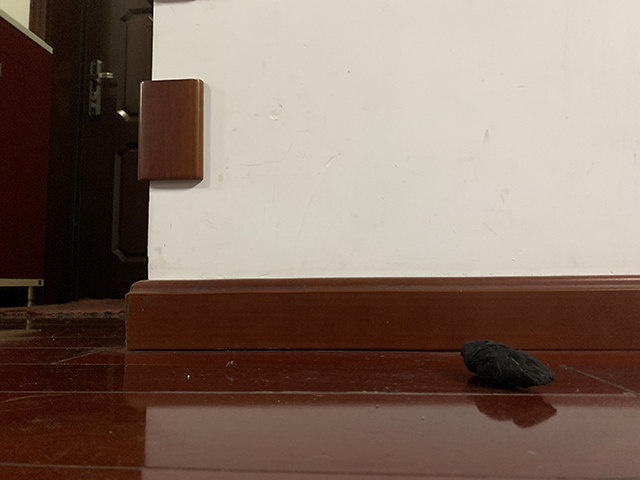cabinet: (1, 10, 56, 303)
carpet: (1, 298, 127, 318)
feces: (457, 339, 556, 387)
